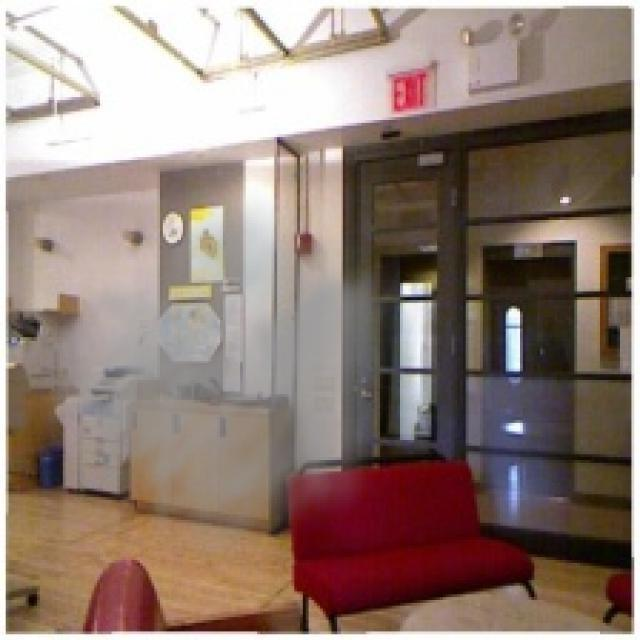Smoke: (6, 183, 400, 580)
